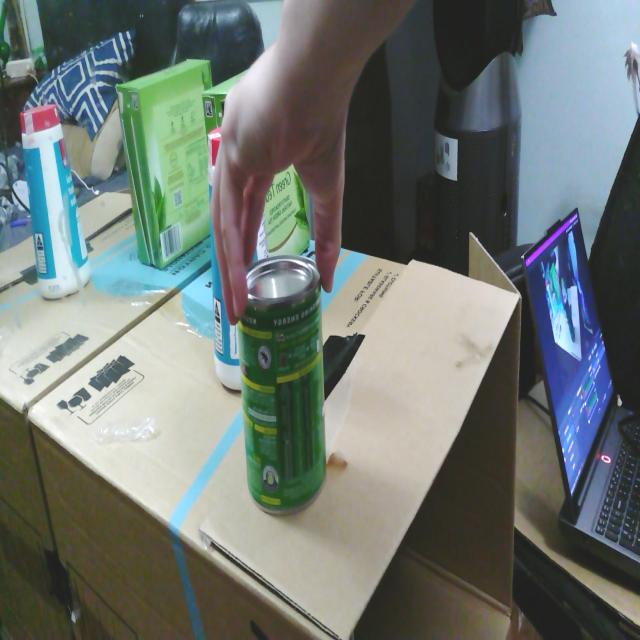nestle_milo_tin: (238, 255, 327, 514)
twinings_greentea_box: (265, 165, 310, 256), (202, 70, 247, 146)
woolworths_salt_bottle: (210, 218, 241, 390), (208, 128, 221, 203), (254, 212, 268, 262)
